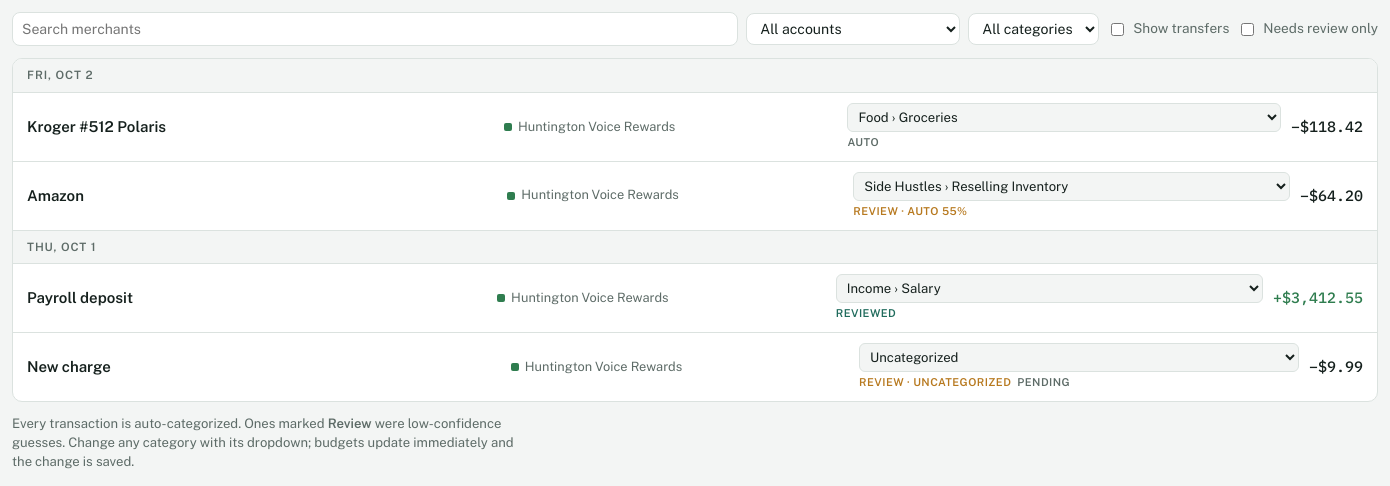
it: LedgerView › recategorizes optimistically and keeps the saved result
Select "Food › Groceries" in the dropdown named "Category for Amazon" at (1072, 186), box 853,172 -> 1290,201
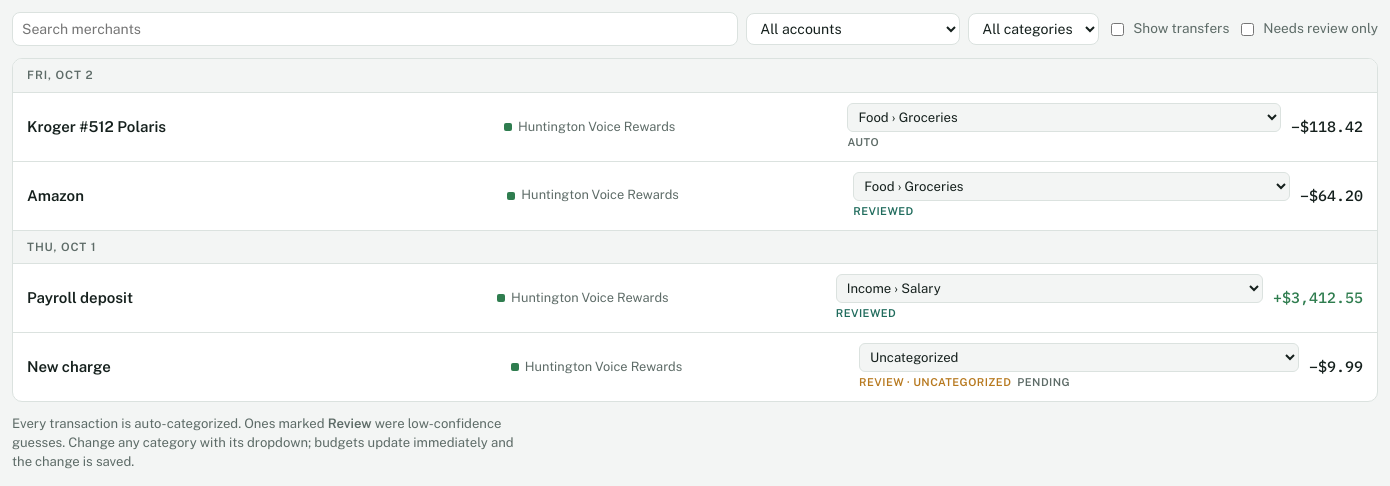
Expected: the text "Reviewed" is shown 2 times, 853,205 -> 914,217; 836,307 -> 896,319
Expected: the text "Review · auto 55%" is gone
